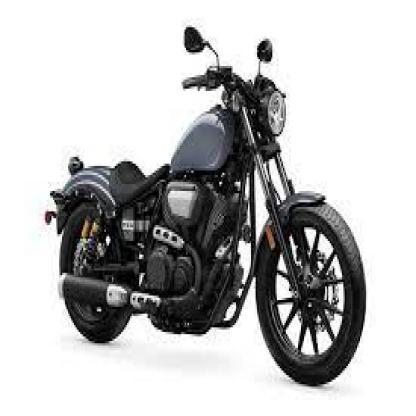Motorcycle: (39, 21, 371, 391)
